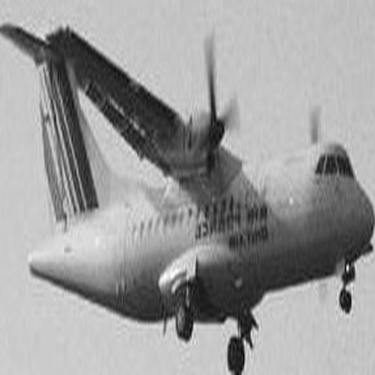airplane: (4, 6, 368, 371)
